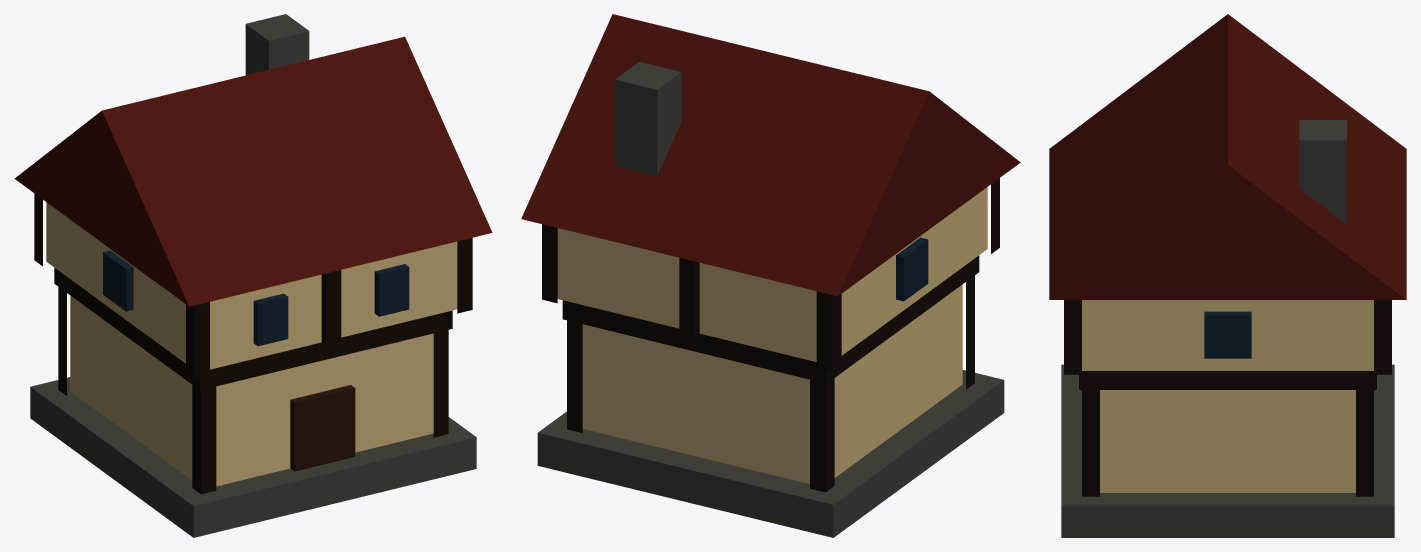
The model's file is house.glb.
3 views of the same model, side by side, from view 1: azimuth 30°, elevation 25°; view 2: azimuth 150°, elevation 25°; view 3: azimuth 270°, elevation 25° (orthographic). The views are drawn at different scales.
Visible parts, largest first — view 1: house_01; view 2: house_01; view 3: house_01.
Boxes of the visible parts, x1,y1,x2,y2 form: house_01: [14, 14, 492, 537]; house_01: [521, 14, 1020, 537]; house_01: [1049, 14, 1406, 537].
Size of the model in its own units: 0.6 by 0.7 by 0.6.
1 material, 1 textured.
